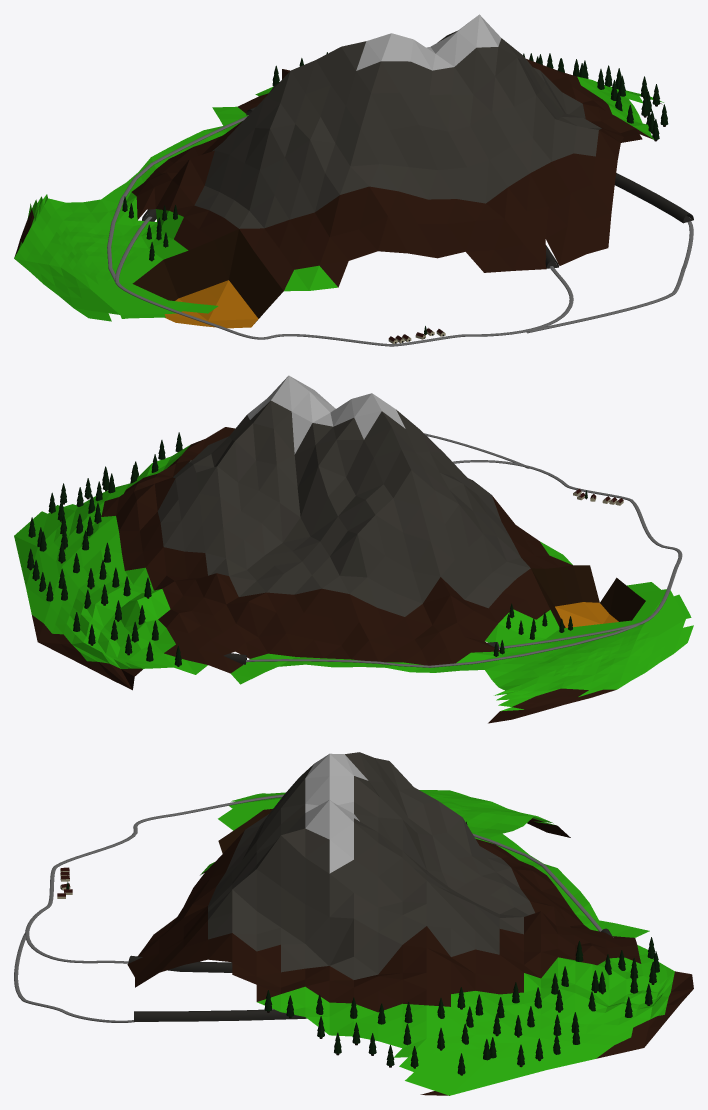
File: mountianMirror.obj
3 renders of one model, top to bottom at view 1: azimuth 30°, elevation 25°; view 2: azimuth 150°, elevation 25°; view 3: azimuth 270°, elevation 25°, orthographic. The views are drawn at different scales.
Visible parts, largest first — view 1: Icosphere.001, BezierCurve, BezierCurve.002_tunnel, BezierCurve.003_BezierCurve.001, BezierCurve.004_BezierCurve.003; view 2: Icosphere.001, BezierCurve, BezierCurve.003_BezierCurve.001; view 3: Icosphere.001, BezierCurve.002_tunnel, BezierCurve, BezierCurve.004_BezierCurve.003, BezierCurve.000_tunnel.001, BezierCurve.003_BezierCurve.001.
Boxes of the visible parts, bbox=[...] form: Icosphere.001: bbox=[14, 14, 663, 328]; BezierCurve: bbox=[115, 216, 573, 346]; BezierCurve.002_tunnel: bbox=[246, 106, 693, 223]; BezierCurve.003_BezierCurve.001: bbox=[107, 116, 247, 281]; BezierCurve.004_BezierCurve.003: bbox=[526, 221, 693, 333]; Icosphere.001: bbox=[14, 375, 693, 723]; BezierCurve: bbox=[452, 460, 682, 648]; BezierCurve.003_BezierCurve.001: bbox=[246, 625, 639, 667]; Icosphere.001: bbox=[127, 752, 693, 1095]; BezierCurve.002_tunnel: bbox=[134, 928, 612, 1021]; BezierCurve: bbox=[25, 794, 283, 963]; BezierCurve.004_BezierCurve.003: bbox=[14, 932, 134, 1022]; BezierCurve.000_tunnel.001: bbox=[128, 955, 232, 972]; BezierCurve.003_BezierCurve.001: bbox=[472, 833, 602, 931].
Size of the model in its own units: 183 by 58.75 by 168.
